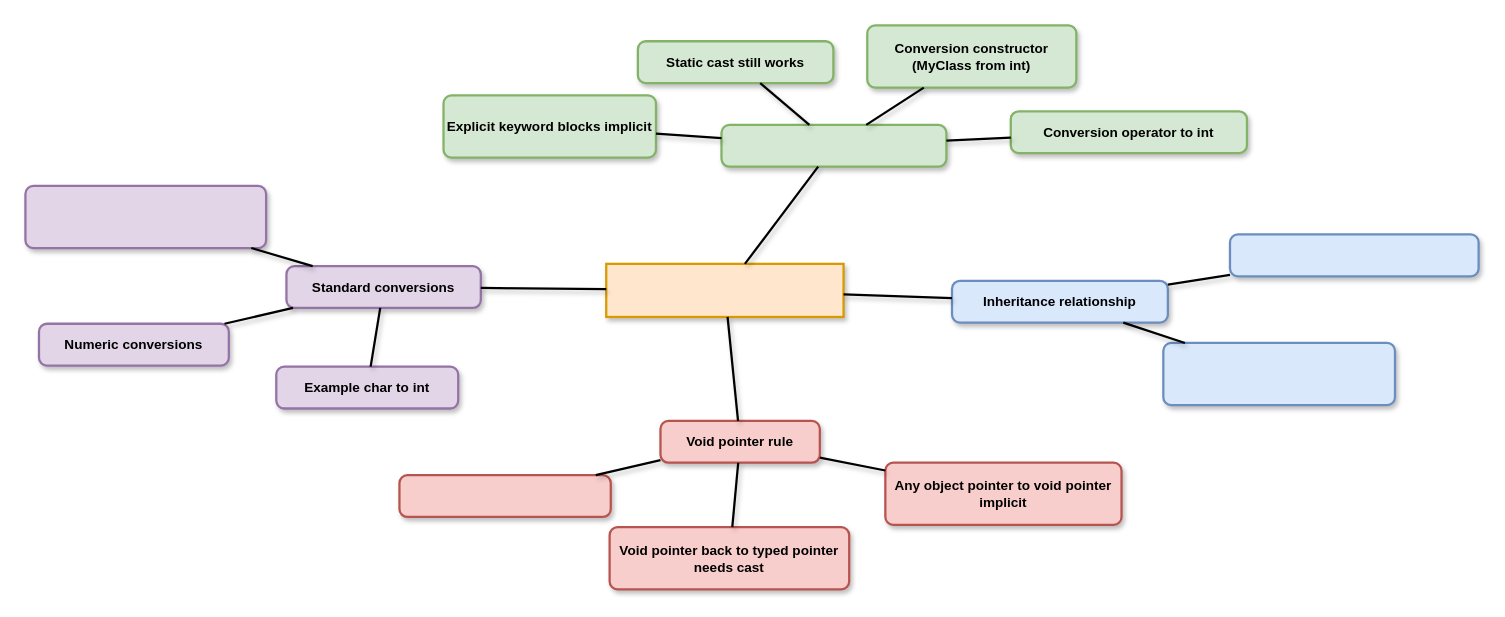
Image size: 1505x617. Some labels were removed from this diagram. Each missing label, with the centre of its shape:
Downcast Base to Derived no runtime check: the point at 1279,375
Example double to int may lose data: the point at 146,218
Four rules of static cast: the point at 725,291
No runtime verification: the point at 505,497
Upcast Derived to Base safe: the point at 1355,256
User defined conversions: the point at 834,147
